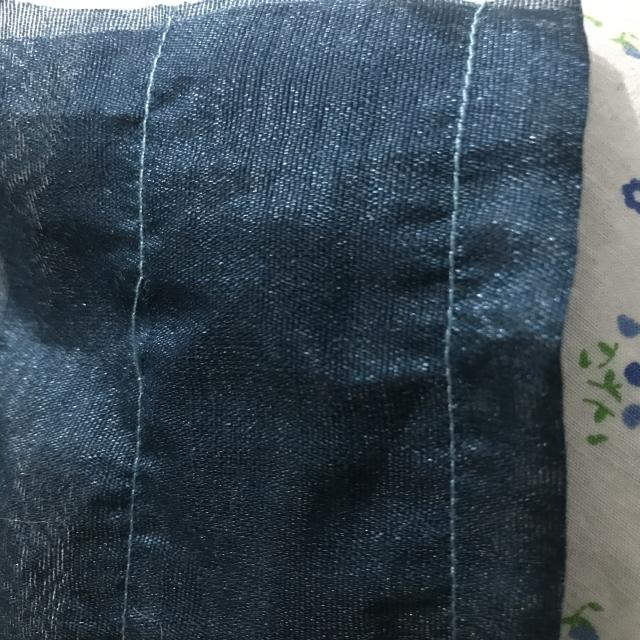good: (128, 117, 158, 206)
skip: (108, 255, 171, 400)
